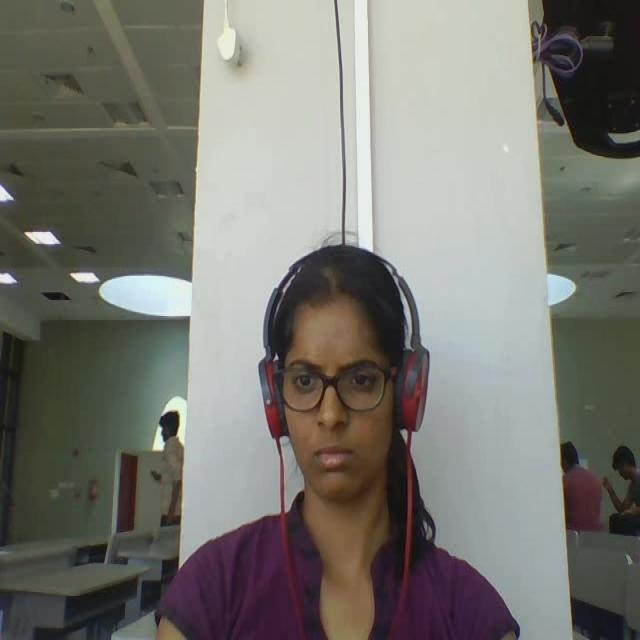Engaged: (242, 231, 445, 524)
